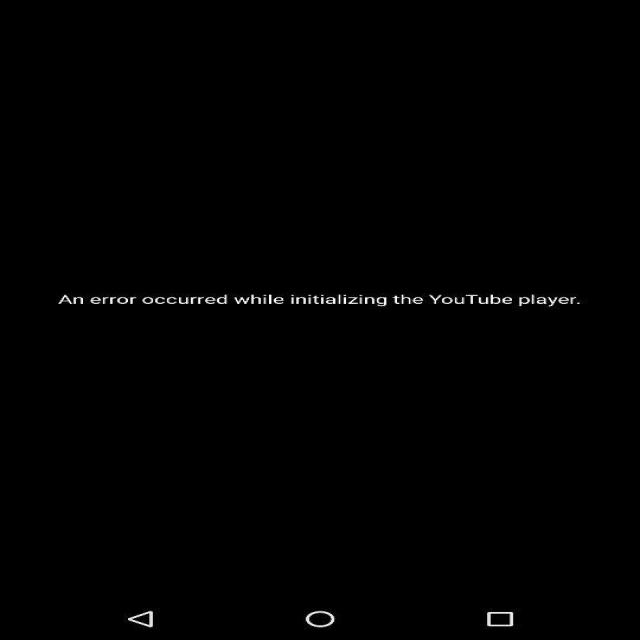forced continuity: (189, 83, 472, 197)
